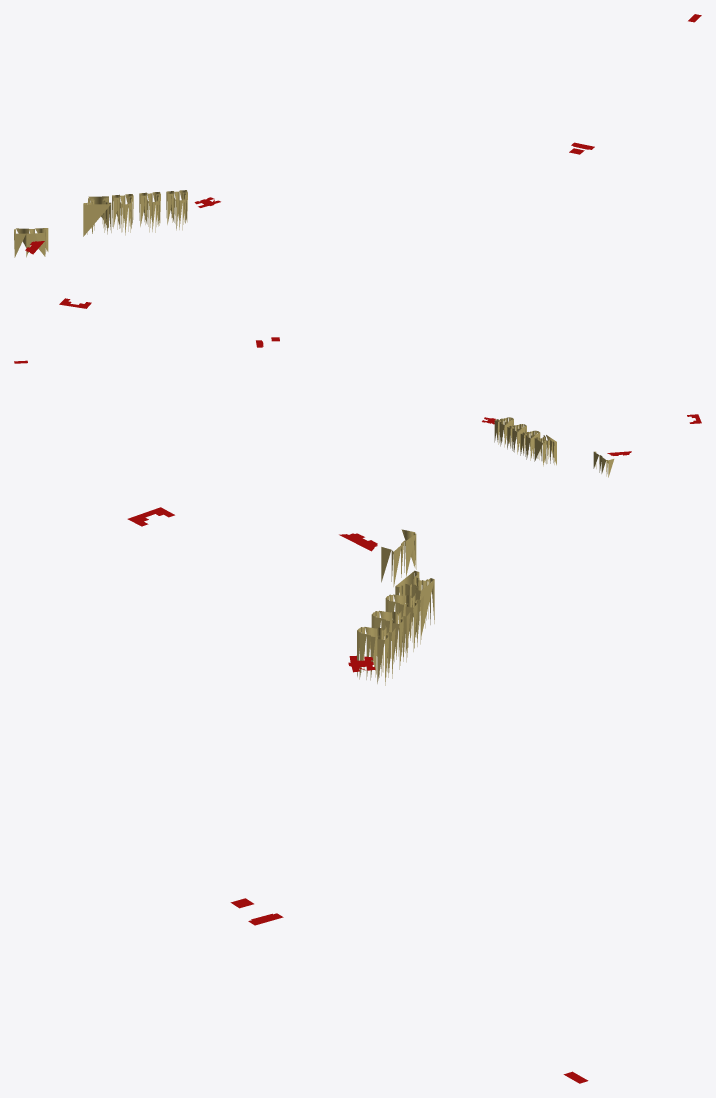
3 renders of one model, top to bottom at view 1: azimuth 30°, elevation 25°; view 2: azimuth 150°, elevation 25°; view 3: azimuth 270°, elevation 25°, orthographic. The views are drawn at different scales.
Bounding box in the file's own units: 2082 × 82.5 × 713.
